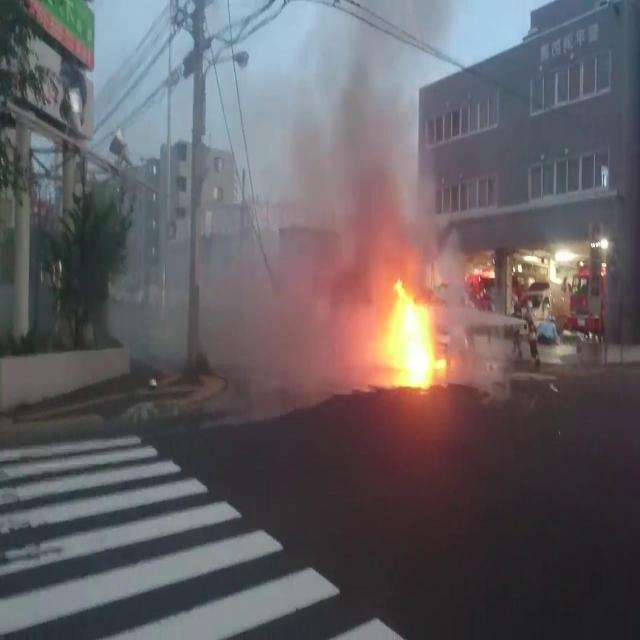fire: (379, 248, 449, 384)
